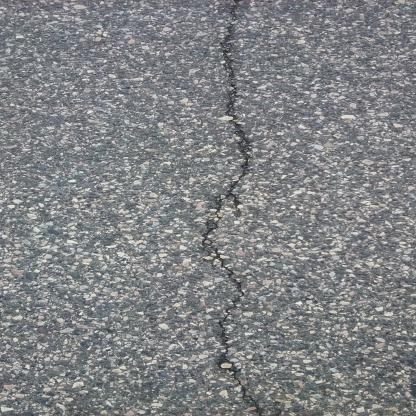Cracks: (188, 0, 283, 415)
